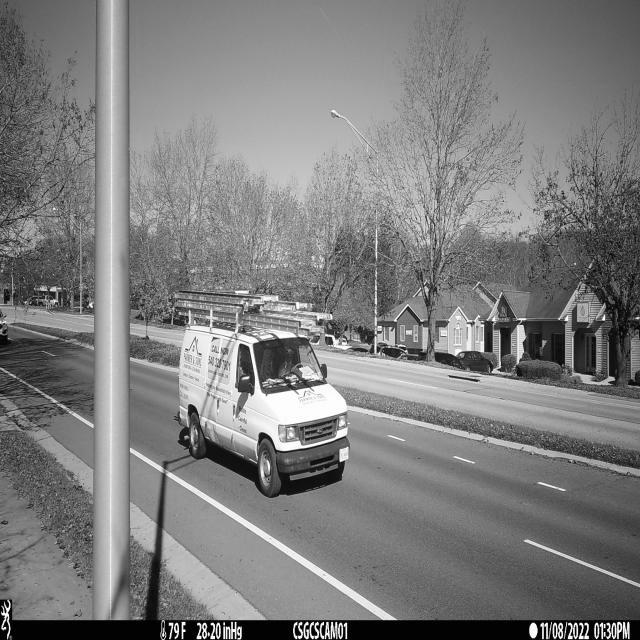Van: (174, 291, 350, 499)
